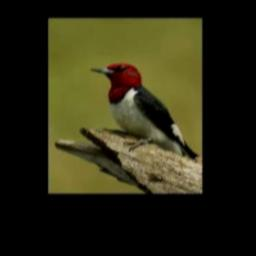Woodpecker: (90, 63, 199, 160)
